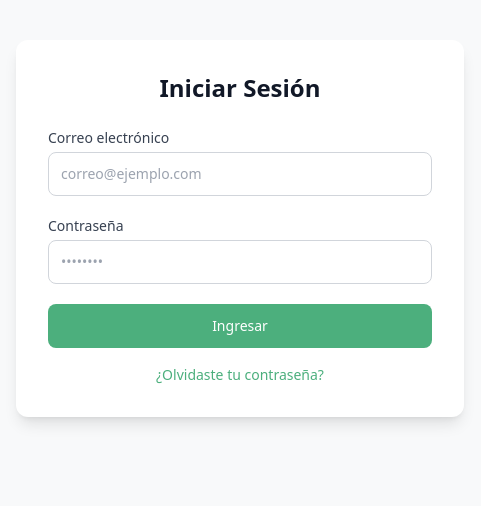
Test: LoginPage › preservation — flujo de login (Property 2) › error 401 con remainingAttempts: muestra "Credenciales inválidas" y los intentos restantes
Type "test@example.com" into the field labelled "Correo electrónico" at (240, 174), box [48,152,432,196]
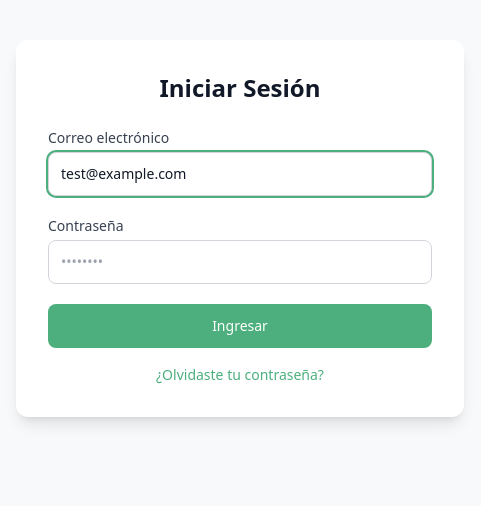
Type "claveIncorrecta" into the password field labelled "Contraseña" at (240, 262), box [48,240,432,284]
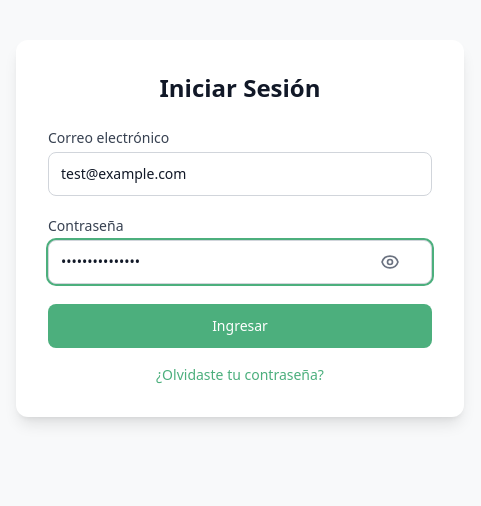
Click the button "Ingresar" at (240, 326), box [48,304,432,348]
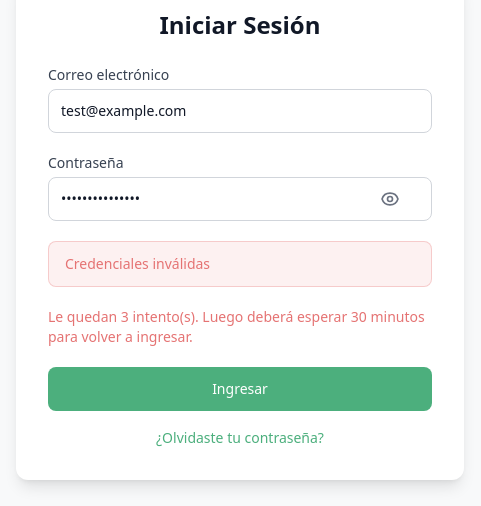
Expected: the text "Credenciales inválidas" is shown, [48,240,432,286]
Expected: the text "Le quedan 3 intento(s). Luego deberá esperar 30 minutos" is shown, [48,306,432,346]
